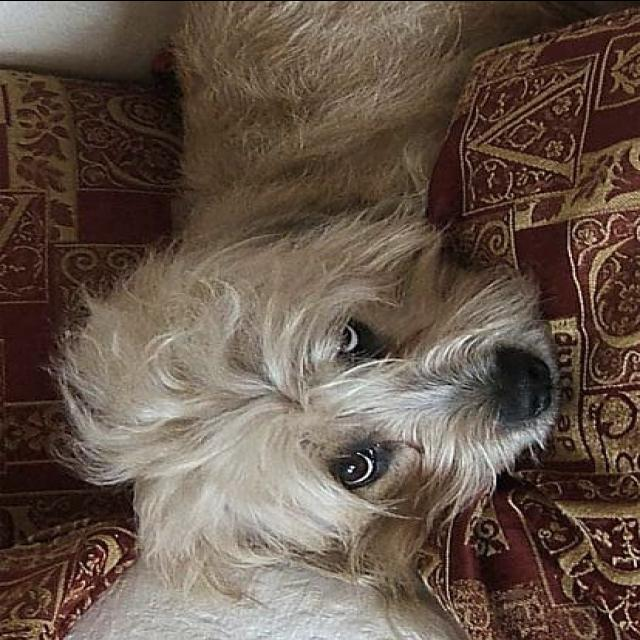dandie_dinmont: (60, 4, 558, 596)
